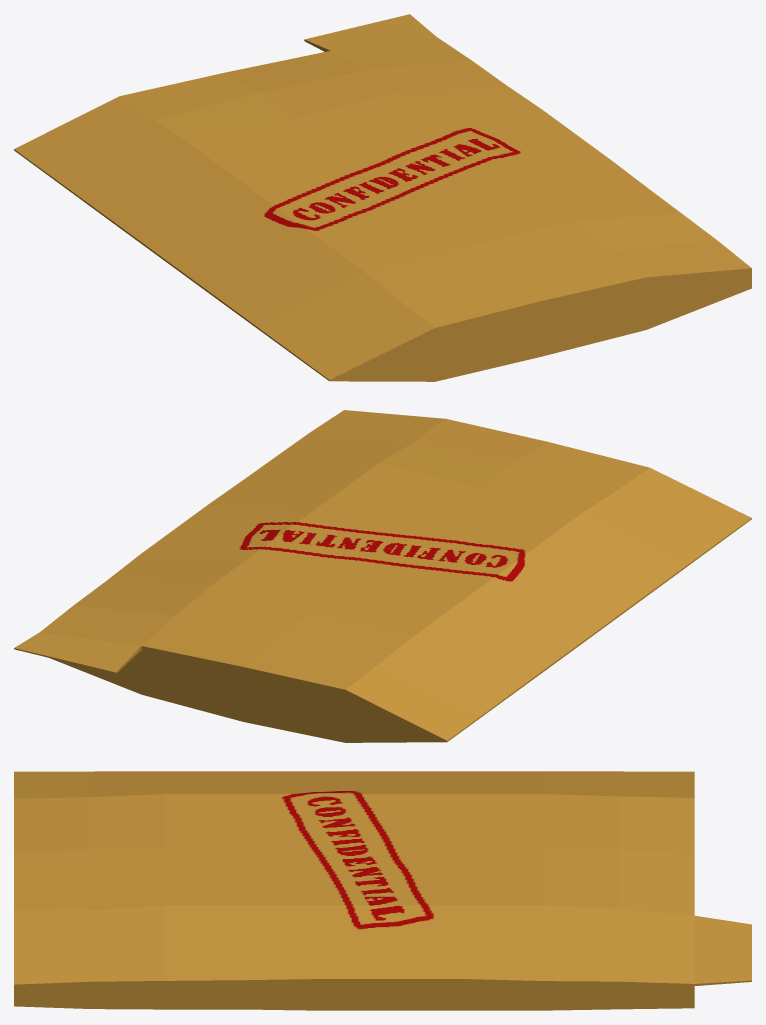
Rendered from Confidential file.fbx.
3 renders of one model, top to bottom at view 1: azimuth 30°, elevation 25°; view 2: azimuth 150°, elevation 25°; view 3: azimuth 270°, elevation 25°, orthographic. The views are drawn at different scales.
Visible parts, largest first — view 1: Cube; view 2: Cube; view 3: Cube.
Part boxes in pixels (box(x1,y1,x2,y2)): Cube: box(14, 14, 751, 381); Cube: box(14, 410, 751, 742); Cube: box(14, 771, 751, 1010).
Size of the model in its own units: 0.3466 by 0.0492 by 0.486.
1 material, 1 textured.
